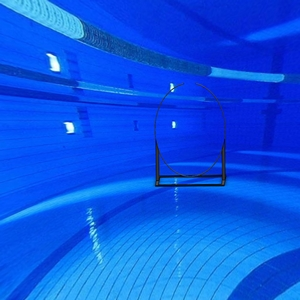circle: (152, 81, 231, 190)
